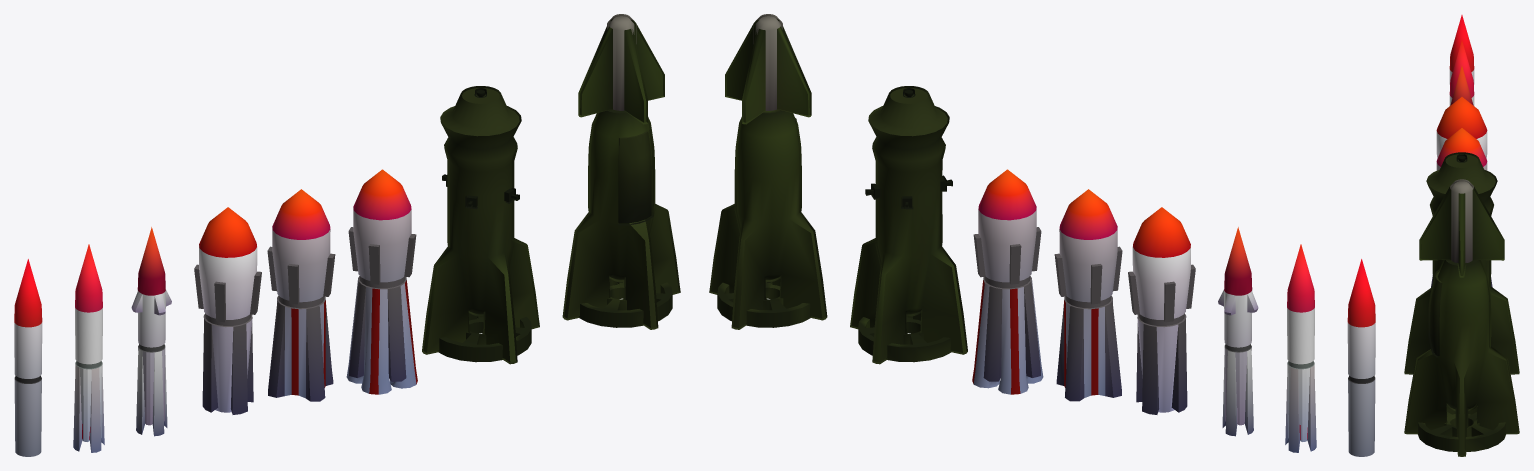
Rendered from bombs.fbx.
3 views of the same model, side by side, from view 1: azimuth 30°, elevation 25°; view 2: azimuth 150°, elevation 25°; view 3: azimuth 270°, elevation 25° (orthographic). The views are drawn at different scales.
Visible parts, largest first — view 1: Cone.008, Cone.007, Cone.006, Cone.005, Cone.004, Cone.002, Cone.003, Cone.001; view 2: Cone.008, Cone.007, Cone.006, Cone.005, Cone.004, Cone.002, Cone.003, Cone.001; view 3: Cone.008, Cone.007, Cone.004, Cone.005, Cone.001, Cone.003, Cone.002.
Part boxes in pixels (x1=…): Cone.008: x1=562, y1=14, x2=680, y2=329; Cone.007: x1=422, y1=86, x2=539, y2=364; Cone.006: x1=346, y1=169, x2=417, y2=394; Cone.005: x1=267, y1=189, x2=335, y2=401; Cone.004: x1=194, y1=207, x2=261, y2=414; Cone.002: x1=131, y1=227, x2=171, y2=436; Cone.003: x1=73, y1=244, x2=104, y2=452; Cone.001: x1=14, y1=259, x2=42, y2=456; Cone.008: x1=709, y1=14, x2=827, y2=329; Cone.007: x1=850, y1=86, x2=967, y2=364; Cone.006: x1=972, y1=169, x2=1043, y2=394; Cone.005: x1=1054, y1=189, x2=1122, y2=401; Cone.004: x1=1128, y1=207, x2=1195, y2=414; Cone.002: x1=1218, y1=227, x2=1258, y2=436; Cone.003: x1=1285, y1=244, x2=1316, y2=452; Cone.001: x1=1347, y1=259, x2=1375, y2=456; Cone.008: x1=1404, y1=179, x2=1519, y2=456; Cone.007: x1=1404, y1=152, x2=1519, y2=374; Cone.004: x1=1436, y1=97, x2=1487, y2=158; Cone.005: x1=1431, y1=128, x2=1492, y2=287; Cone.001: x1=1449, y1=15, x2=1474, y2=84; Cone.003: x1=1449, y1=40, x2=1474, y2=105; Cone.002: x1=1450, y1=66, x2=1473, y2=105.
Bounding box in the file's own units: 2176 × 953 × 377.
